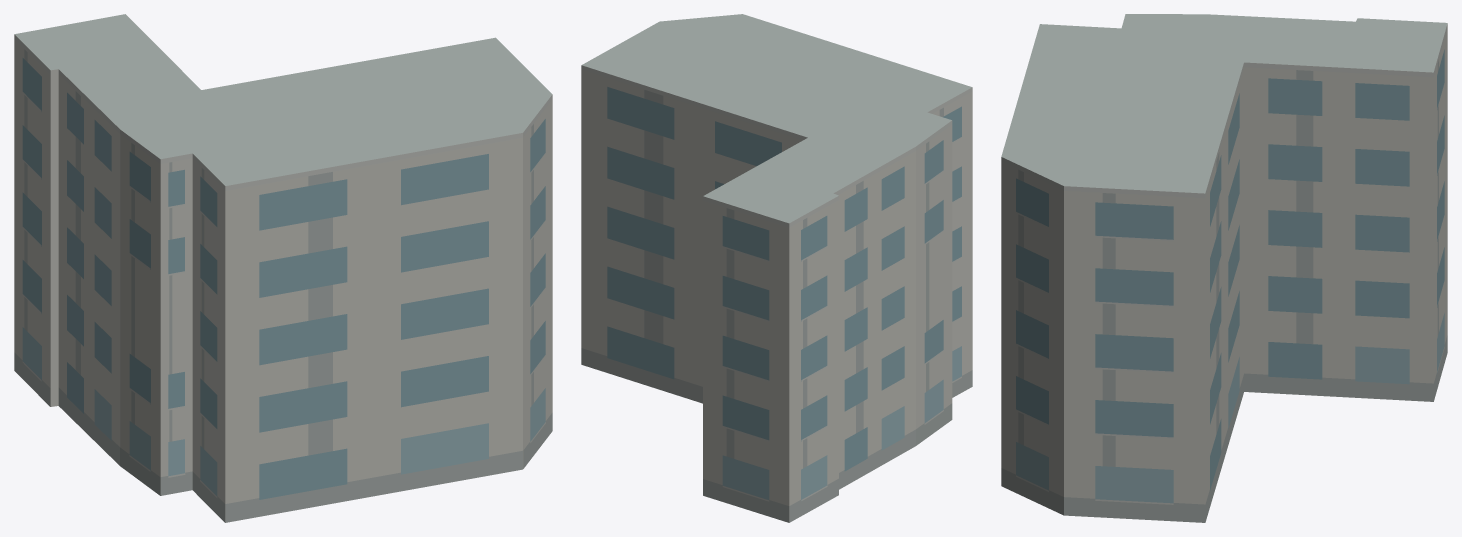
The model's file is survey-upis-32642775.glb.
The picture shows the model from 3 angles, left to right: view 1: azimuth 30°, elevation 25°; view 2: azimuth 150°, elevation 25°; view 3: azimuth 270°, elevation 25°; orthographic projection. The views are drawn at different scales.
Parts seen in each view (by area): view 1: survey-upis-32642775.tmp; view 2: survey-upis-32642775.tmp; view 3: survey-upis-32642775.tmp.
Boxes of the visible parts, x1,y1,x2,y2 form: survey-upis-32642775.tmp: [14, 14, 552, 522]; survey-upis-32642775.tmp: [581, 14, 972, 522]; survey-upis-32642775.tmp: [1001, 14, 1447, 522].
Size of the model in its own units: 19.54 by 16.7 by 20.52.
